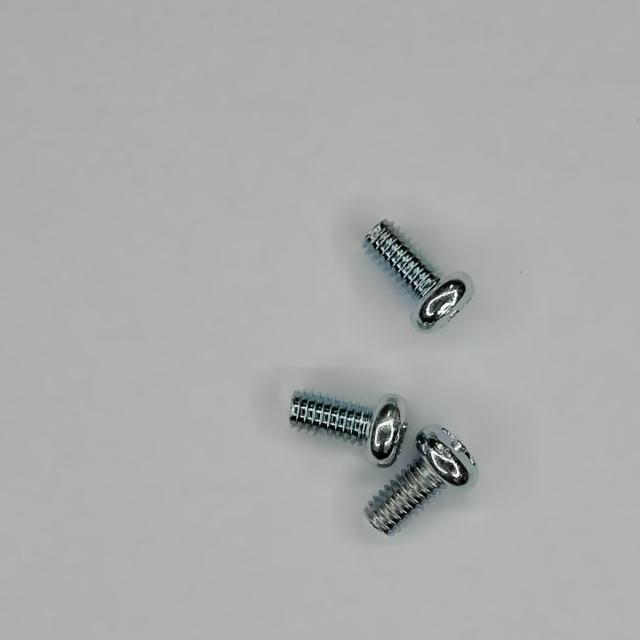Screw: (366, 426, 478, 534), (366, 220, 474, 330), (290, 393, 408, 467)
